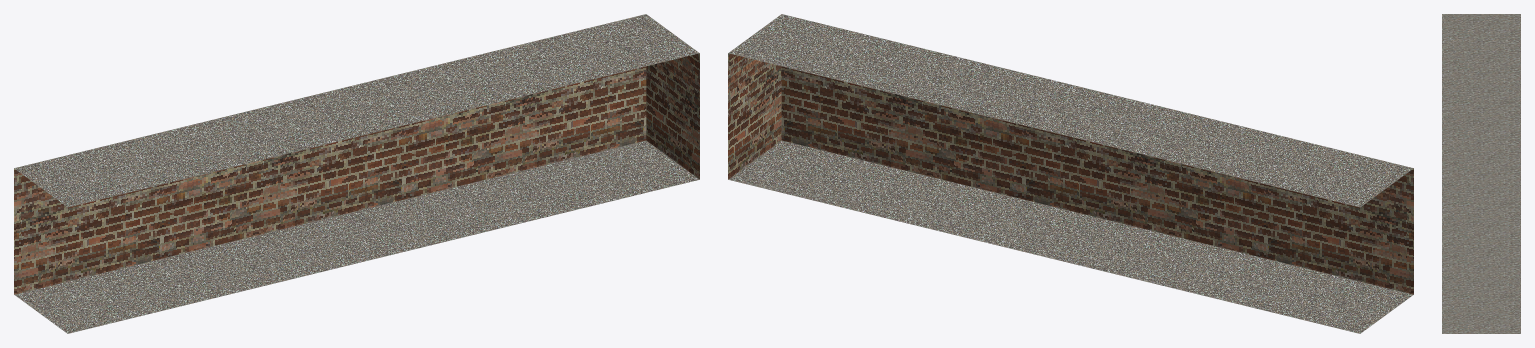
The model's file is lvl1_hallway_1.glb.
3 views of the same model, side by side, from view 1: azimuth 30°, elevation 25°; view 2: azimuth 150°, elevation 25°; view 3: azimuth 270°, elevation 25° (orthographic). The views are drawn at different scales.
Visible parts, largest first — view 1: Hallway12; view 2: Hallway12; view 3: Hallway12.
Part boxes in pixels (x1,y1,x2,y2): Hallway12: (14,14,699,333); Hallway12: (728,14,1413,333); Hallway12: (1442,14,1520,333).
Bounding box in the file's own units: 17 × 3.25 × 2.5.
3 materials, 3 textured.
